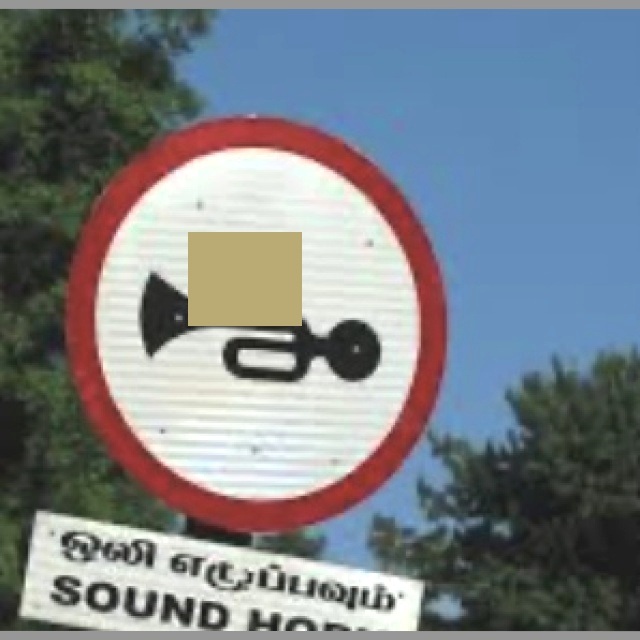Compulsory_Sound_Horn: (93, 129, 446, 499)
